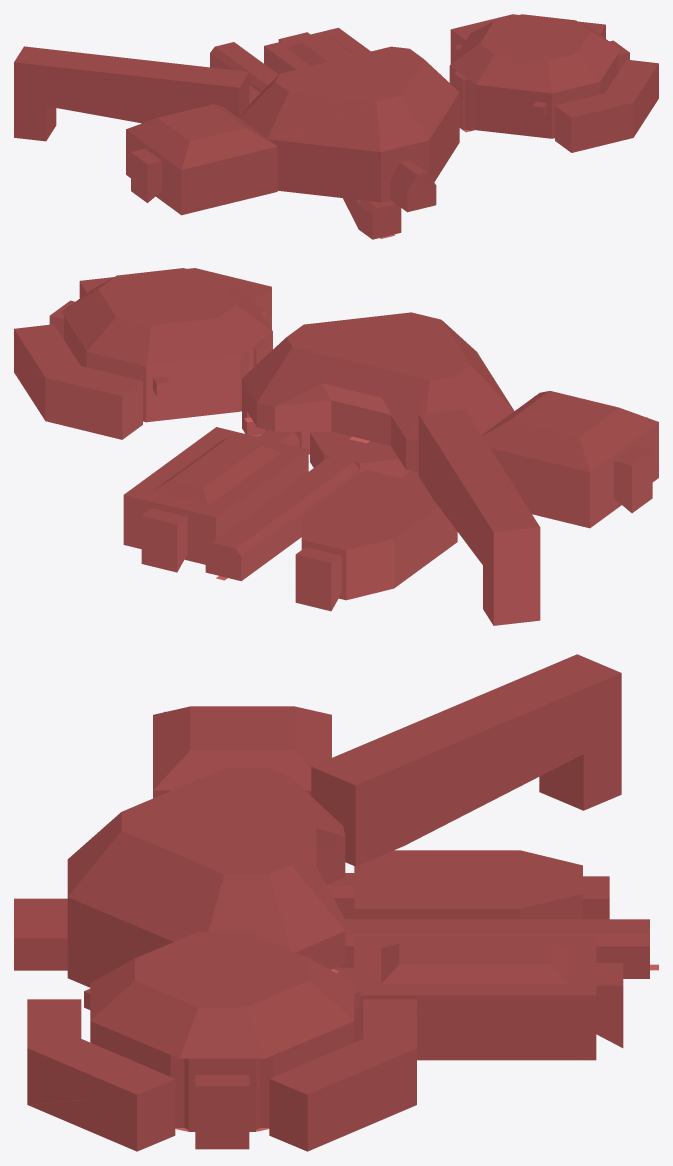
The model's file is castle_1f.glb.
3 renders of one model, top to bottom at view 1: azimuth 30°, elevation 25°; view 2: azimuth 150°, elevation 25°; view 3: azimuth 270°, elevation 25°, orthographic. The views are drawn at different scales.
Visible parts, largest first — view 1: castle_1f_col; view 2: castle_1f_col; view 3: castle_1f_col.
Boxes of the visible parts, x1,y1,x2,y2 form: castle_1f_col: (14, 14, 658, 239); castle_1f_col: (14, 268, 658, 625); castle_1f_col: (14, 654, 658, 1151).
Size of the model in its own units: 10.57 by 2.75 by 7.2.
